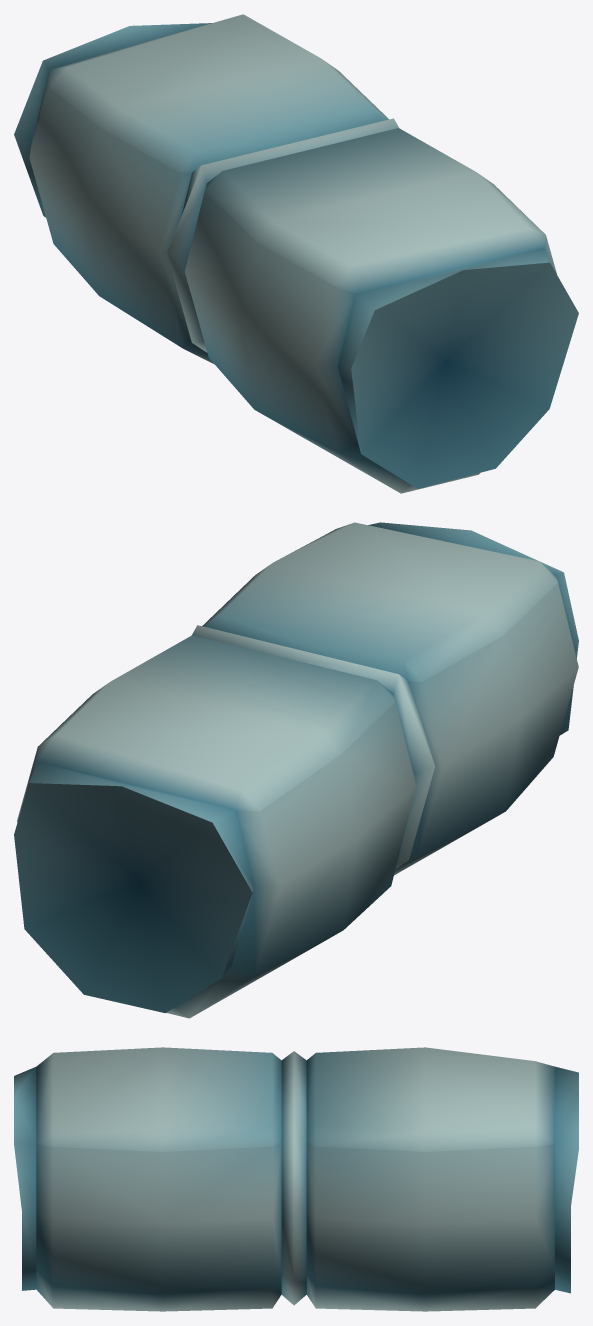
Rendered from PlatformCavernFalling.gltf.
The picture shows the model from 3 angles, top to bottom: view 1: azimuth 30°, elevation 25°; view 2: azimuth 150°, elevation 25°; view 3: azimuth 270°, elevation 25°; orthographic projection. The views are drawn at different scales.
Parts seen in each view (by area): view 1: PlatformCavernFallingMesh; view 2: PlatformCavernFallingMesh; view 3: PlatformCavernFallingMesh.
Boxes of the visible parts, bbox=[...] form: PlatformCavernFallingMesh: bbox=[14, 14, 578, 493]; PlatformCavernFallingMesh: bbox=[14, 522, 578, 1018]; PlatformCavernFallingMesh: bbox=[14, 1047, 578, 1311].
Bounding box in the file's own units: 1.05 × 0.8897 × 2.24.
